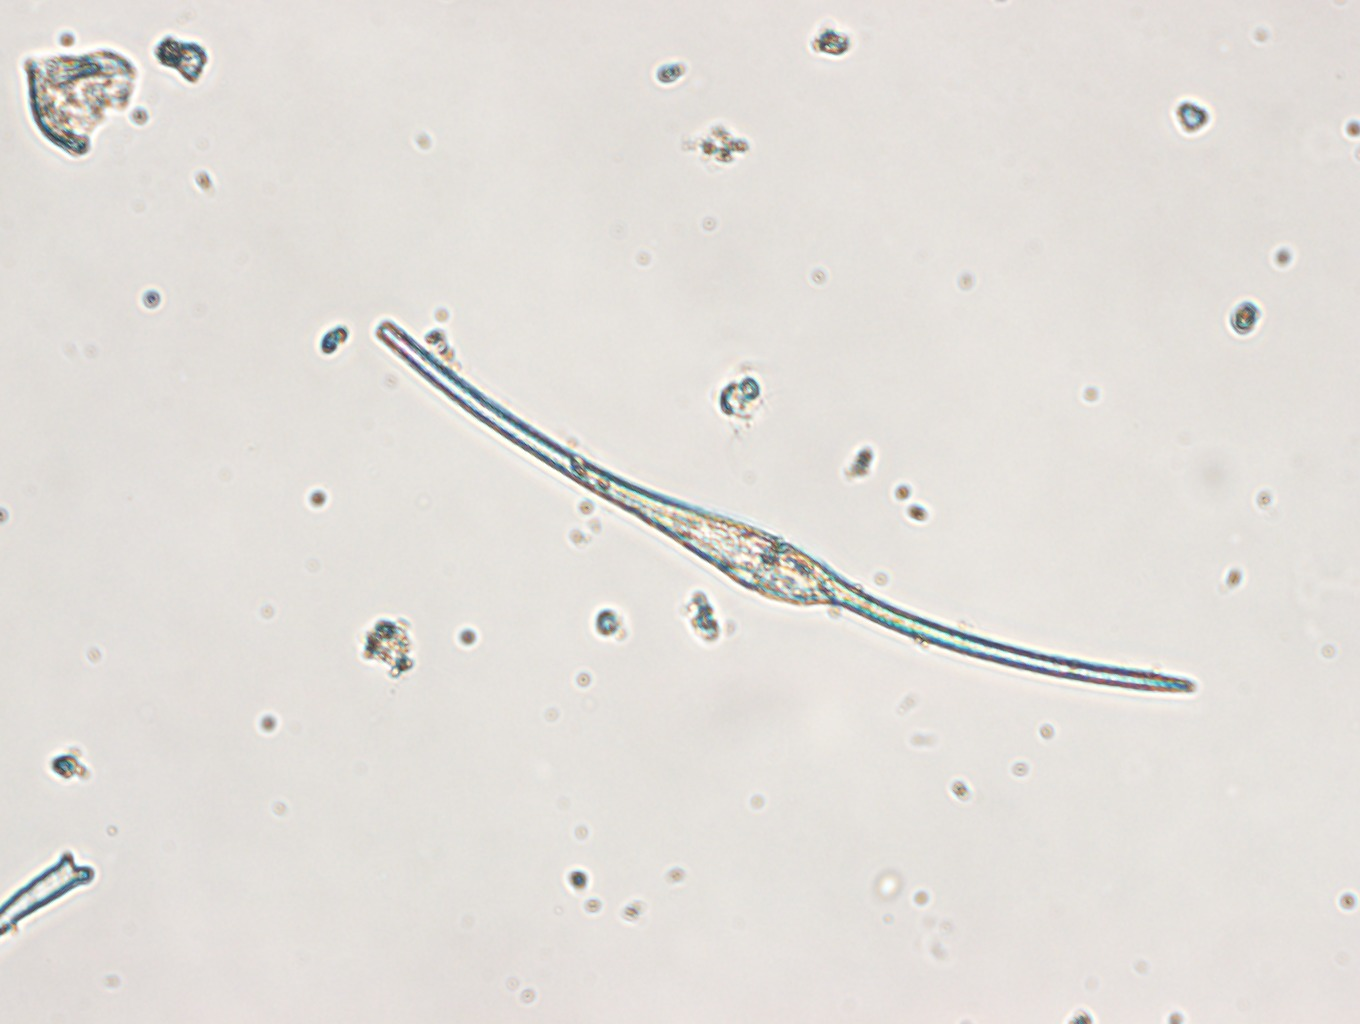ceratium fusus: (371, 315, 1207, 703)
